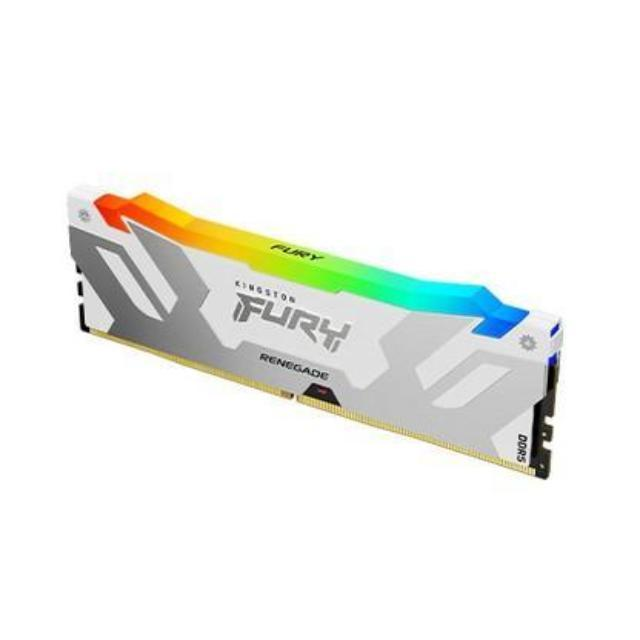RAM: (64, 188, 562, 482)
